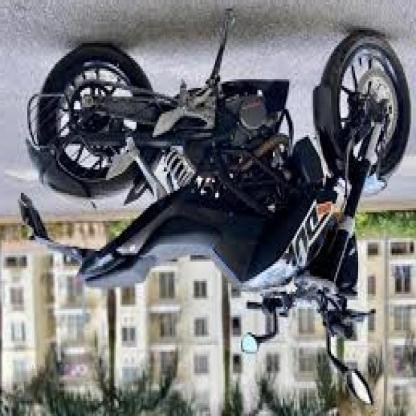bike: (18, 11, 410, 406)
